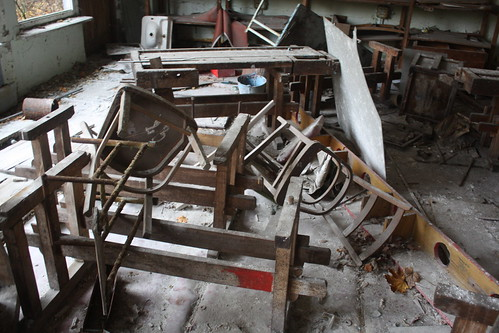trash: (4, 1, 491, 326)
